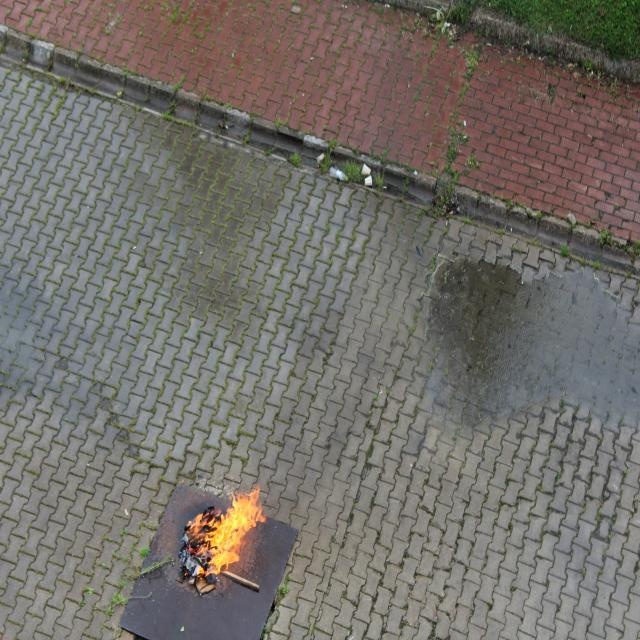fire: (185, 482, 266, 580)
